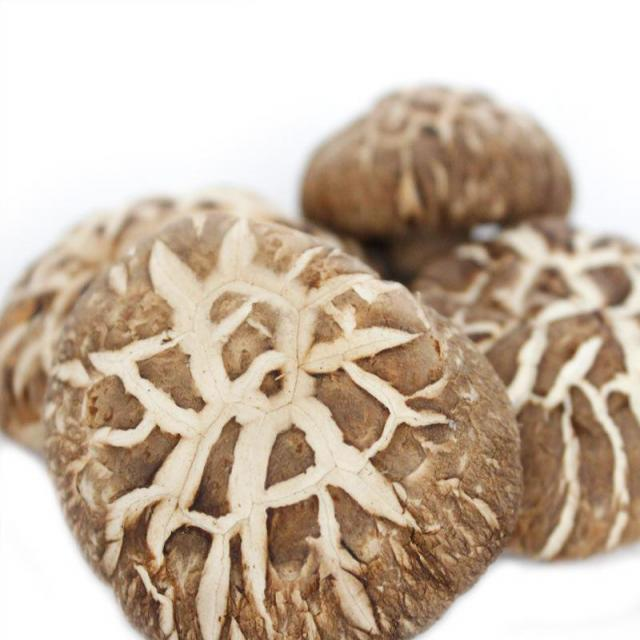Lentinus edodes: (45, 213, 523, 638), (419, 215, 640, 561), (301, 83, 572, 244)
